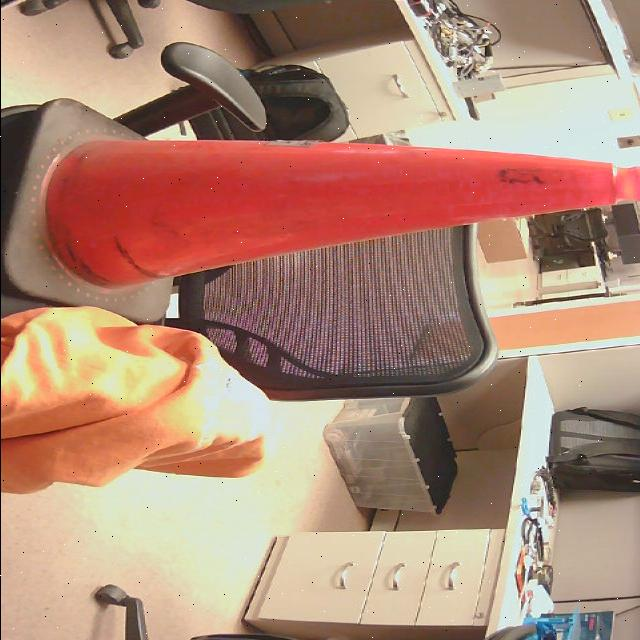traffic cone: (1, 105, 640, 322)
